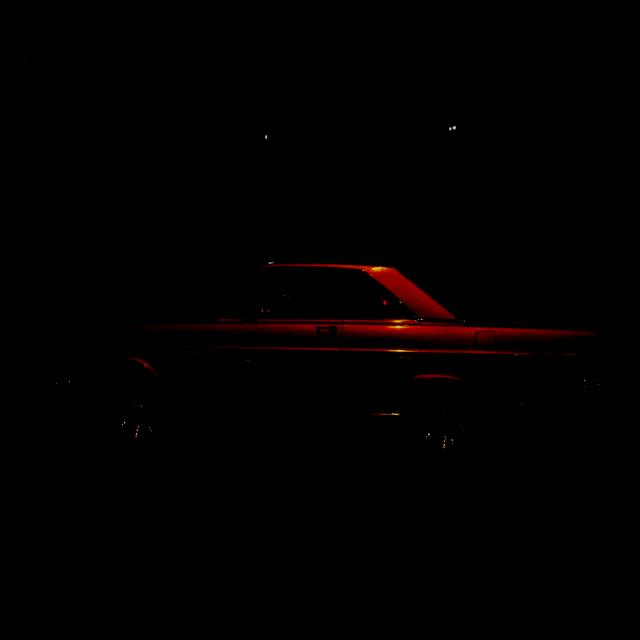Car: (57, 254, 603, 458)
